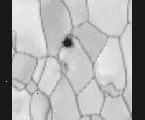good_void: (62, 34, 76, 49)
